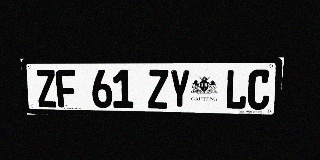1: (112, 69, 133, 108)
6: (91, 69, 113, 108)
C: (247, 69, 271, 110)
F: (55, 70, 78, 108)
L: (224, 69, 248, 110)
Y: (169, 69, 190, 109)
Z: (35, 70, 58, 107), (147, 69, 168, 109)
